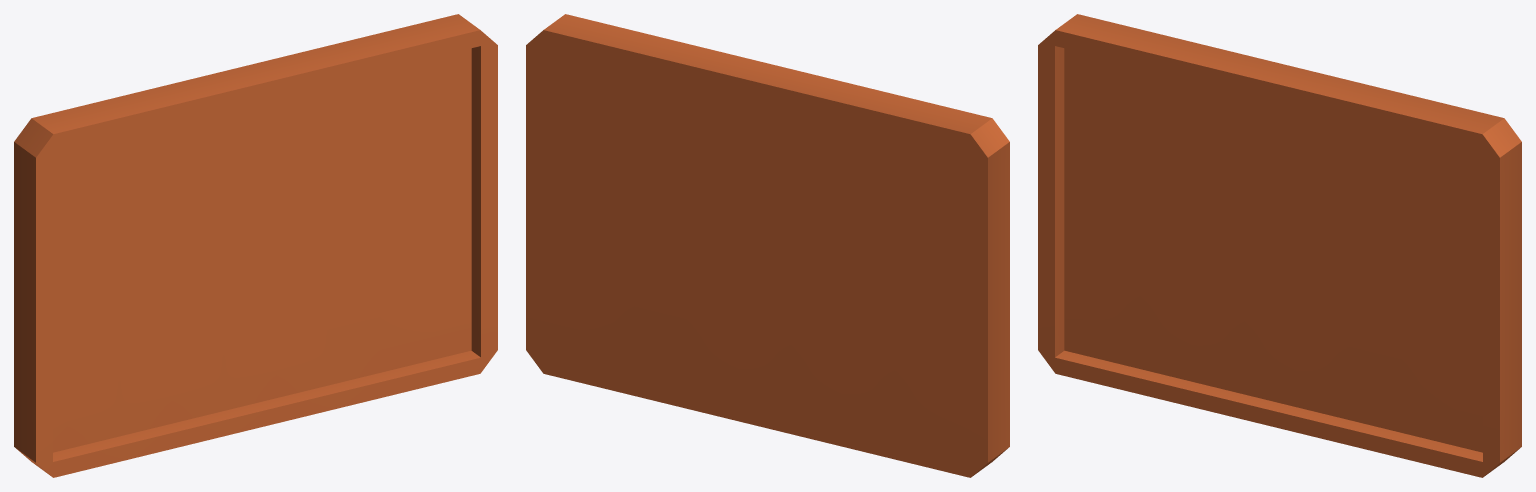
The model's file is Frame.fbx.
The picture shows the model from 3 angles, left to right: view 1: azimuth 30°, elevation 25°; view 2: azimuth 150°, elevation 25°; view 3: azimuth 330°, elevation 25°; orthographic projection.
Parts seen in each view (by area): view 1: Frame; view 2: Frame; view 3: Frame.
Part boxes in pixels (<box>): Frame: <box>14,14,497,477</box>; Frame: <box>526,14,1009,477</box>; Frame: <box>1038,14,1521,477</box>.
Bounding box in the file's own units: 66.26 × 47.12 × 5.46.
